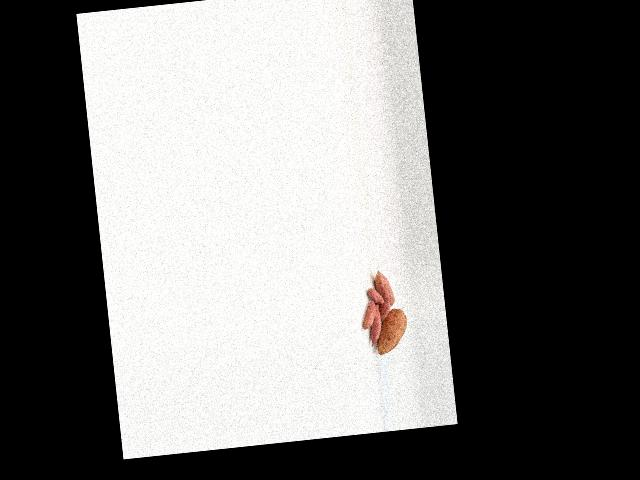sweet_potato: (373, 268, 395, 306)
